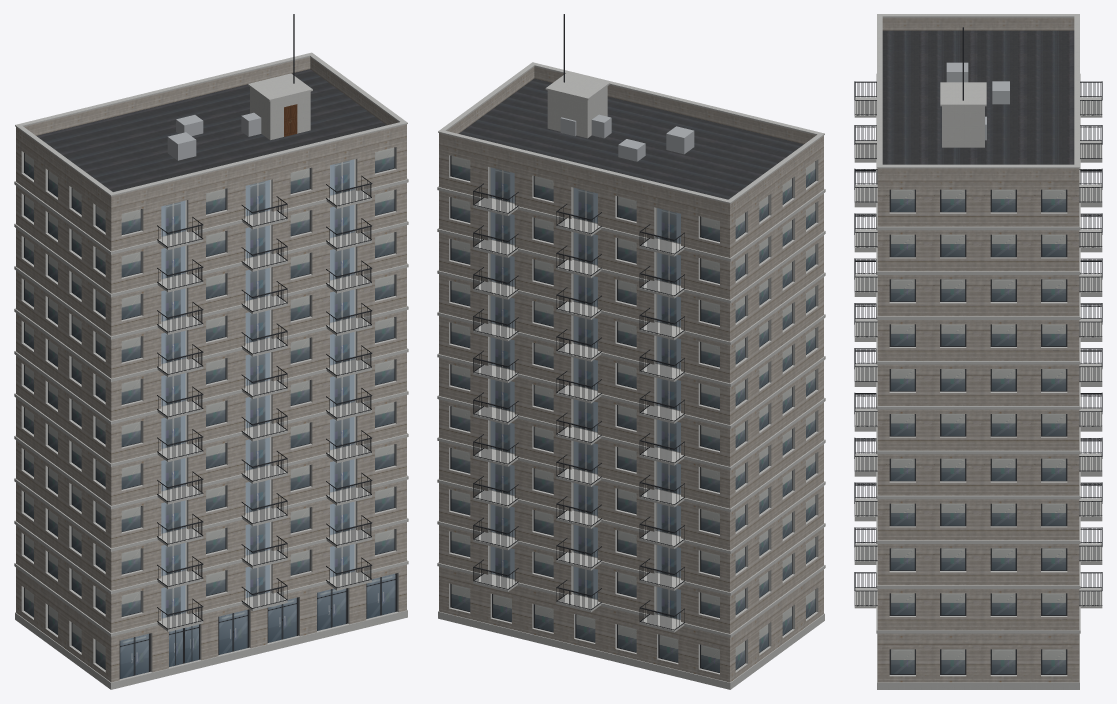
Rendered from edificio_06_apartamentos_hormigon.glb.
The picture shows the model from 3 angles, left to right: view 1: azimuth 30°, elevation 25°; view 2: azimuth 150°, elevation 25°; view 3: azimuth 270°, elevation 25°; orthographic projection. The views are drawn at different scales.
Parts seen in each view (by area): view 1: EB06_apartamentos_hormigon; view 2: EB06_apartamentos_hormigon; view 3: EB06_apartamentos_hormigon.
Boxes of the visible parts, x1,y1,x2,y2 form: EB06_apartamentos_hormigon: (14,14,408,689); EB06_apartamentos_hormigon: (437,14,825,689); EB06_apartamentos_hormigon: (854,14,1102,689).
Size of the model in its own units: 22.04 by 41.8 by 15.07.
7 materials, 5 textured.
